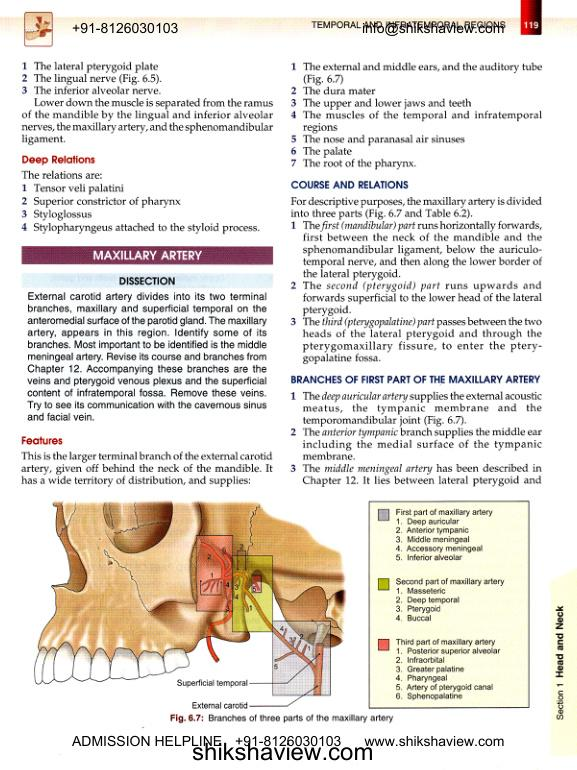caption: (169, 712, 394, 724), (117, 275, 177, 287)
image: (25, 493, 536, 727)
list: (288, 219, 544, 366), (288, 60, 543, 171), (288, 390, 543, 488), (19, 182, 261, 236), (19, 59, 164, 96)
section-heading: (92, 250, 203, 261)
sub-section-heading: (289, 373, 541, 385), (289, 179, 409, 191), (20, 434, 64, 447)
text: (27, 290, 269, 422), (19, 96, 274, 147), (19, 450, 274, 489), (289, 195, 543, 218), (20, 169, 104, 181), (20, 153, 96, 166)
